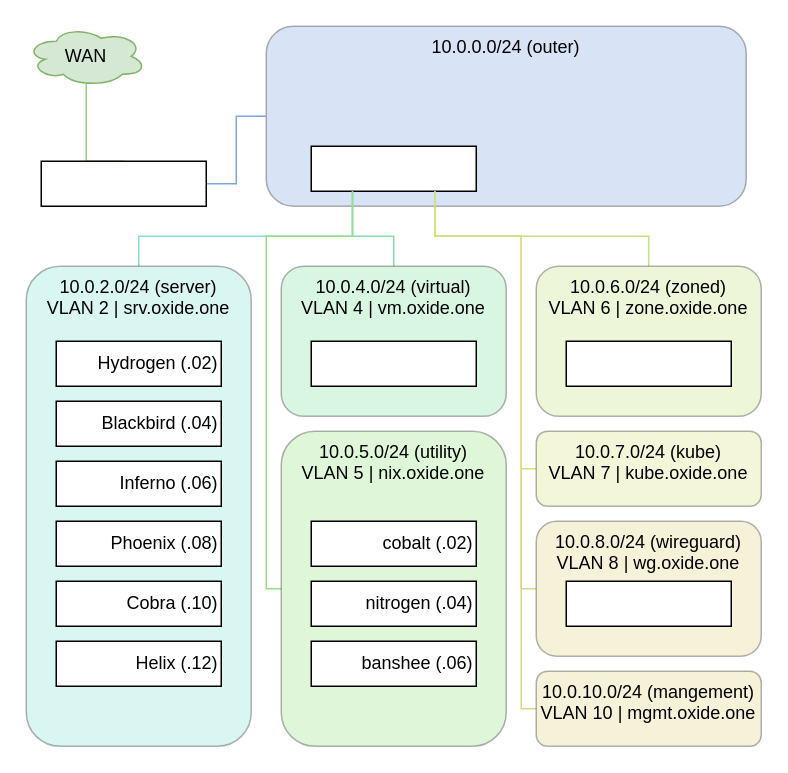
This 788x773 diagram has some shape labels left out. The shapes that lost their labels are listed below. From the top down, each one's centre as x and y in pixels, then its label:
At (x=123, y=183): "Router (RT-AC68U)".
At (x=393, y=168): "Router (CRS-326)".
At (x=393, y=363): "proton".
At (x=648, y=363): "icereach".
At (x=648, y=603): "lithium".
